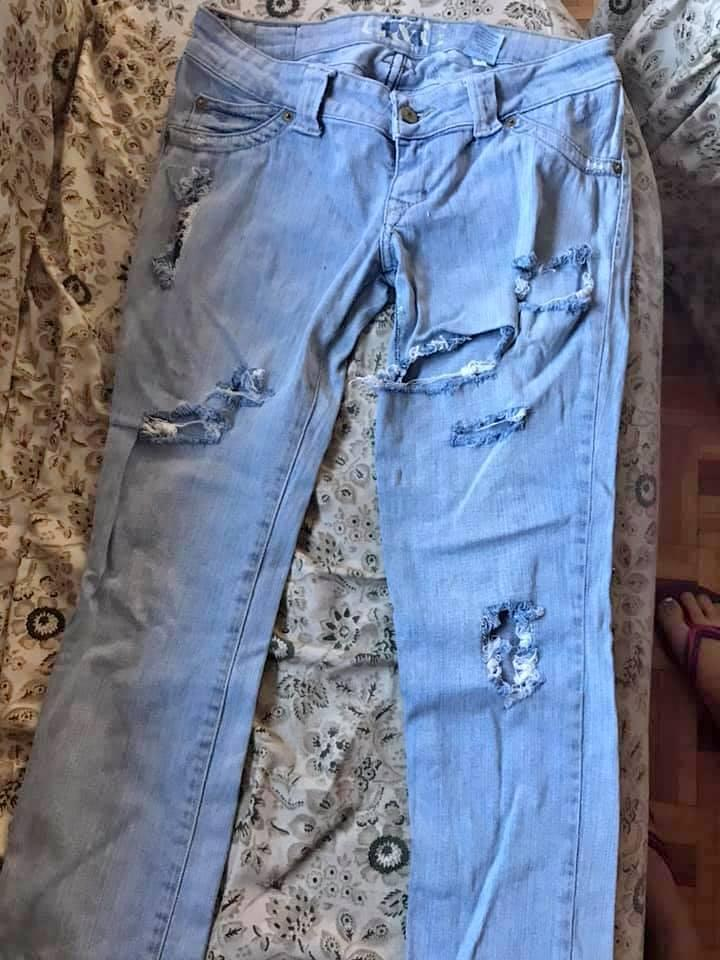jeans: (0, 0, 649, 960)
